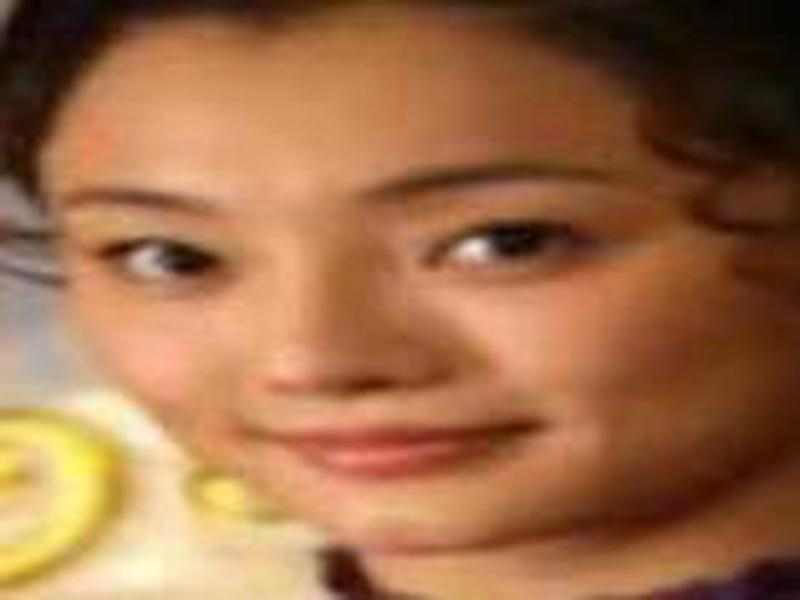without_mask: (40, 78, 731, 550)
